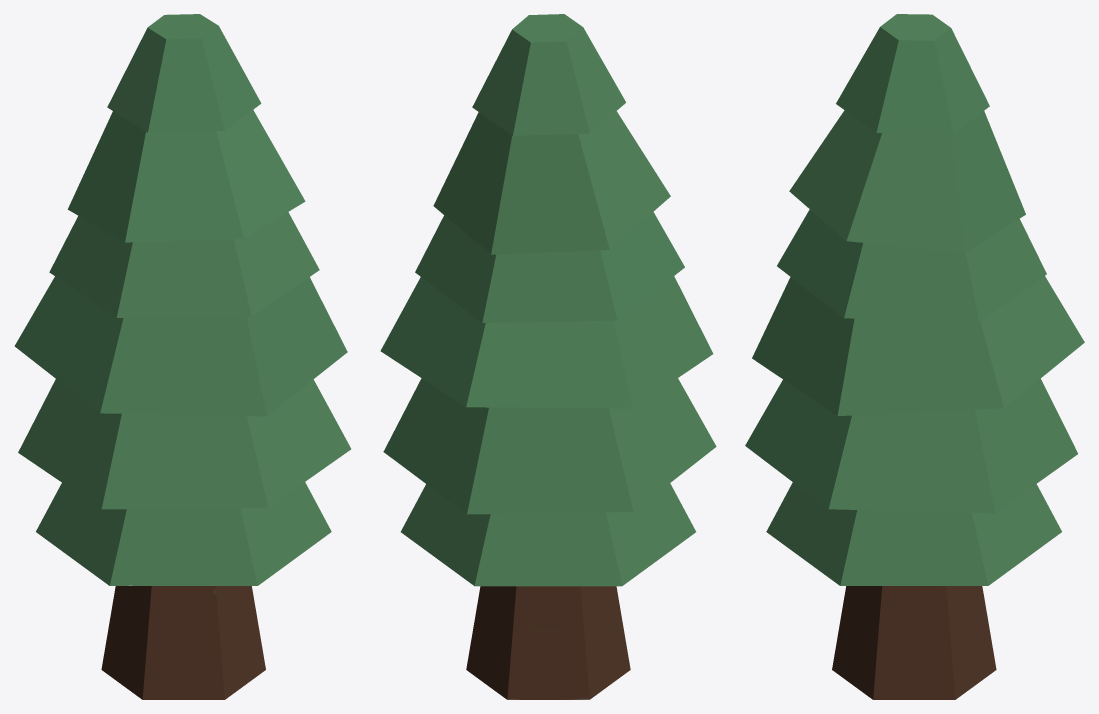
The model's file is tree4 - Copy.obj.
3 views of the same model, side by side, from view 1: azimuth 30°, elevation 25°; view 2: azimuth 150°, elevation 25°; view 3: azimuth 270°, elevation 25° (orthographic).
Visible parts, largest first — view 1: Cylinder.006; view 2: Cylinder.006; view 3: Cylinder.006.
Part boxes in pixels (<box>): Cylinder.006: <box>14,14,351,699</box>; Cylinder.006: <box>380,14,716,699</box>; Cylinder.006: <box>745,14,1084,699</box>.
Bounding box in the file's own units: 3.54 × 8.63 × 4.13.
1 material, 1 textured.
